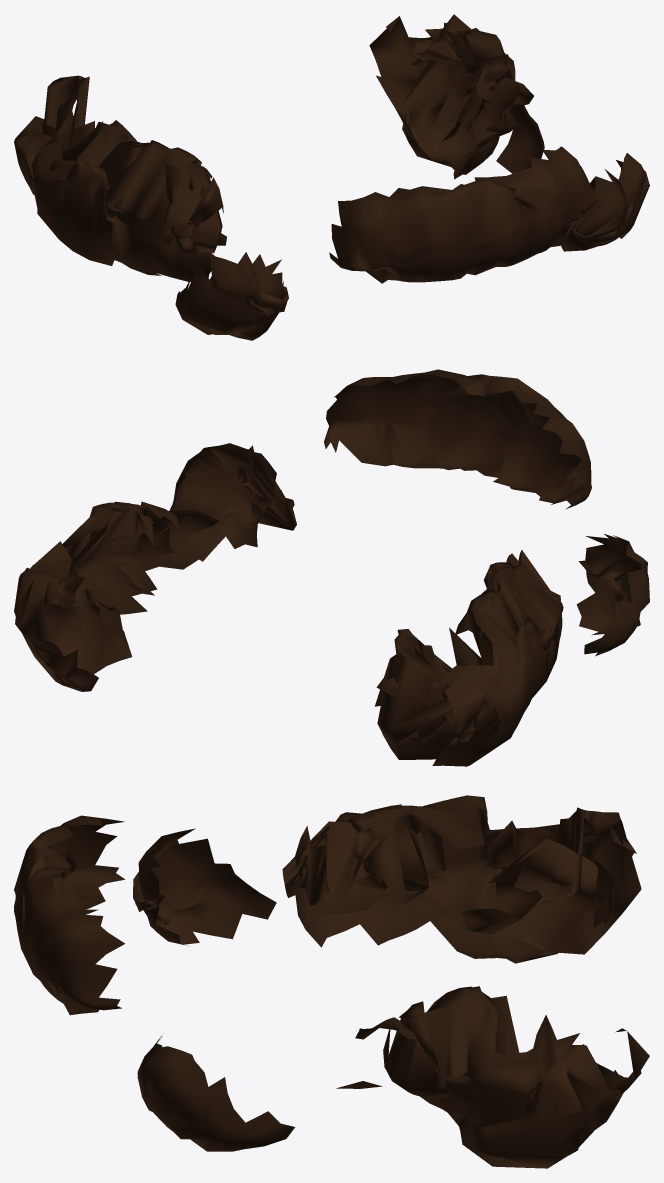
File: kopf.bart.schnurrbart.glb
The picture shows the model from 3 angles, top to bottom: view 1: azimuth 30°, elevation 25°; view 2: azimuth 150°, elevation 25°; view 3: azimuth 270°, elevation 25°; orthographic projection. The views are drawn at different scales.
Visible parts, largest first — view 1: bart; view 2: bart; view 3: bart.
Boxes of the visible parts, x1=… form: bart: x1=14, y1=14, x2=649, y2=340; bart: x1=14, y1=369, x2=649, y2=766; bart: x1=14, y1=795, x2=649, y2=1168.
Size of the model in its own units: 0.0775 by 0.0298 by 0.0811.
